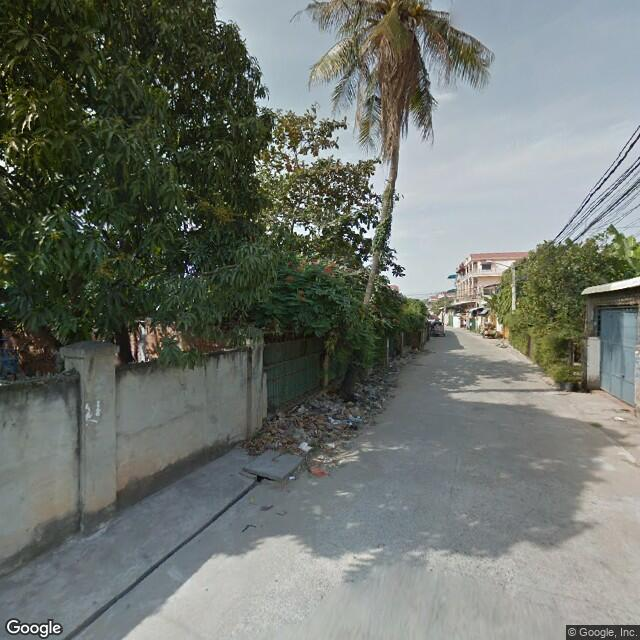litter: (317, 398, 347, 425), (292, 438, 318, 455), (309, 462, 330, 479), (342, 408, 361, 423)
